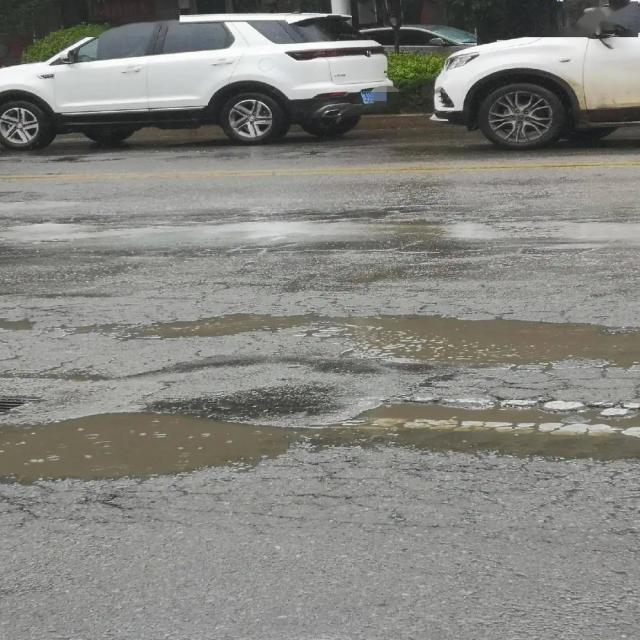Pothole: (4, 396, 640, 489), (126, 314, 640, 368)
